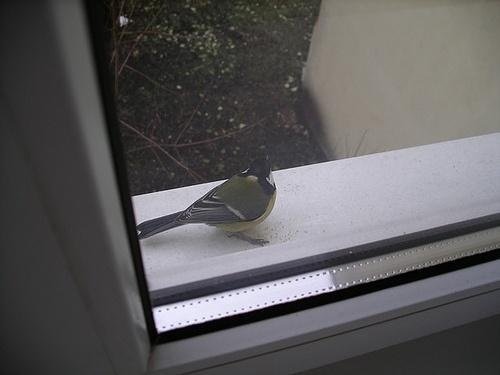bird: (132, 156, 280, 248)
